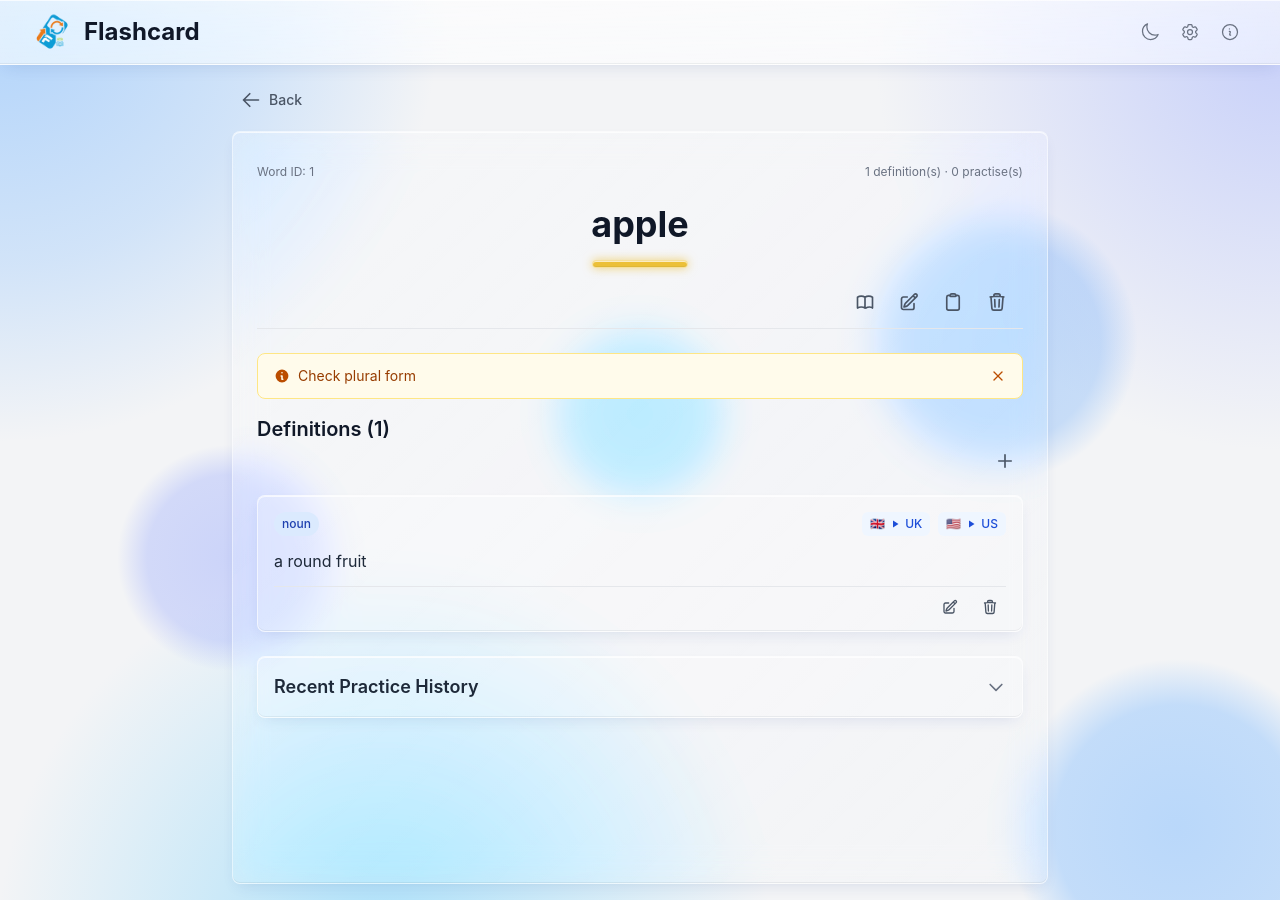
Test: WordDetailPage › shows a toast when clearing the reminder fails
The width and height of the screenshot is (1280, 900).
Expected: the text "Check plural form" is shown, [298,367,416,384]
Click the button named "Clear reminder". click: (998, 376)
box: [990,368,1006,384]
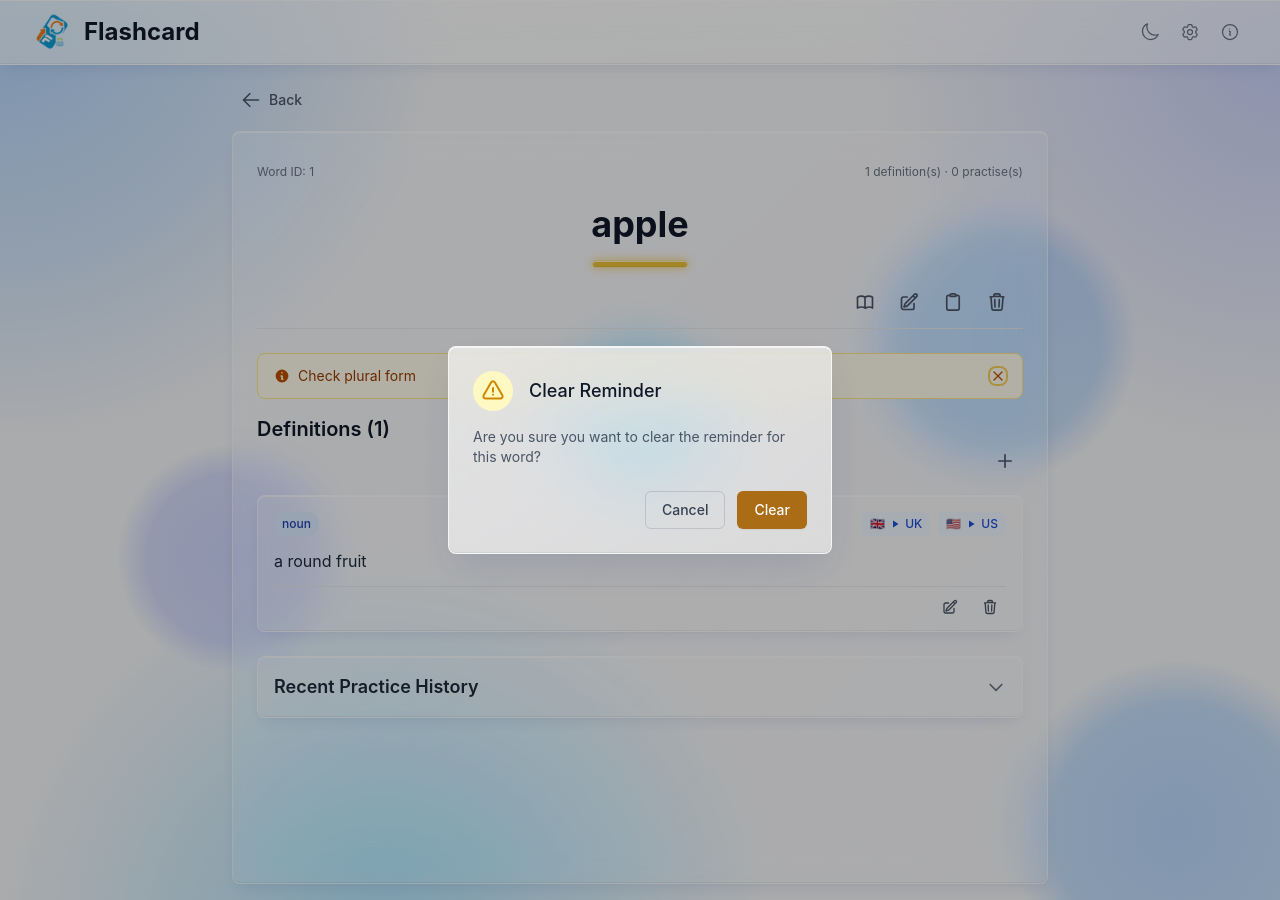
Click the button "Clear". click: (772, 510)
box: [738,491,807,529]
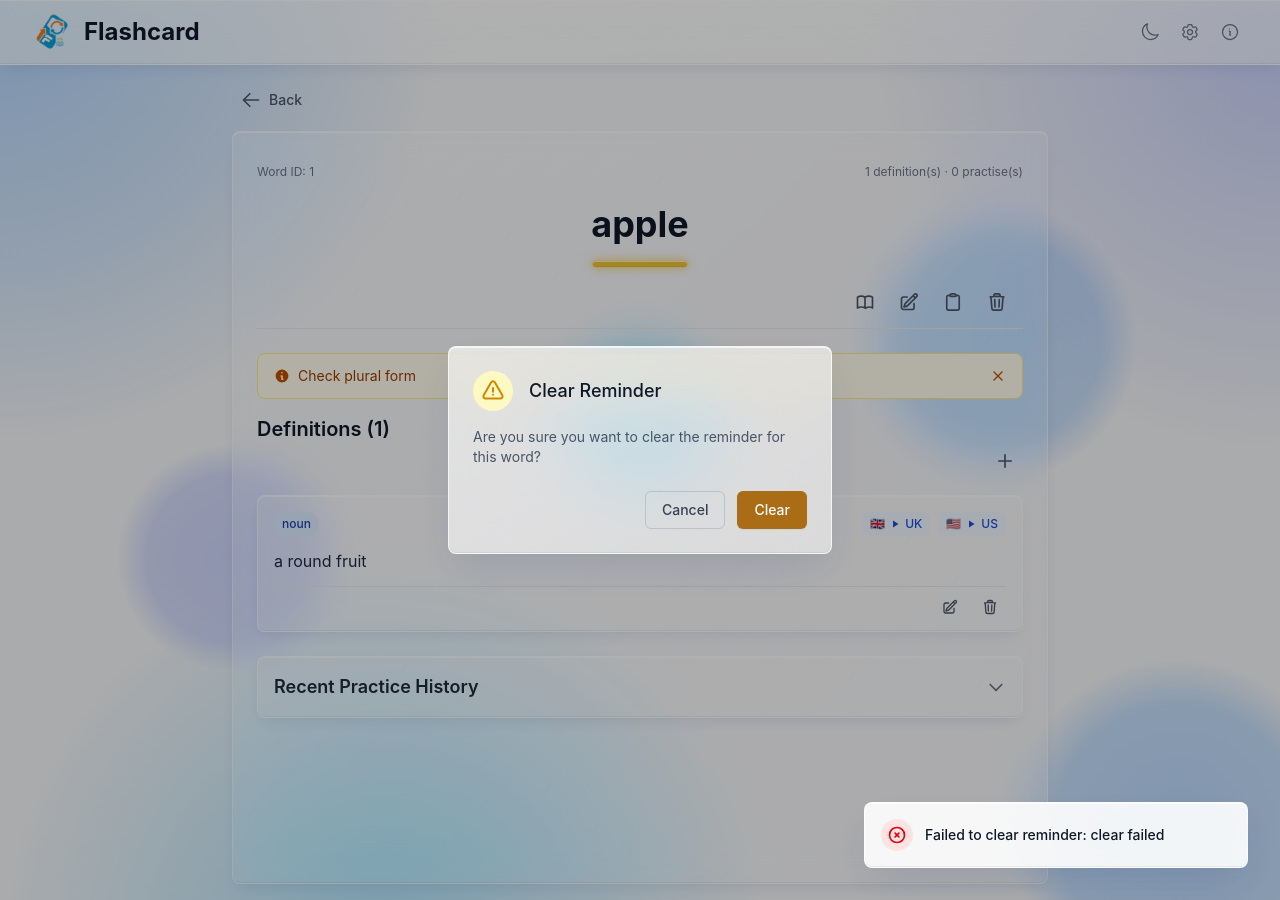
Expected: the text "Failed to clear reminder: clear failed" is shown, [925,825,1164,845]
